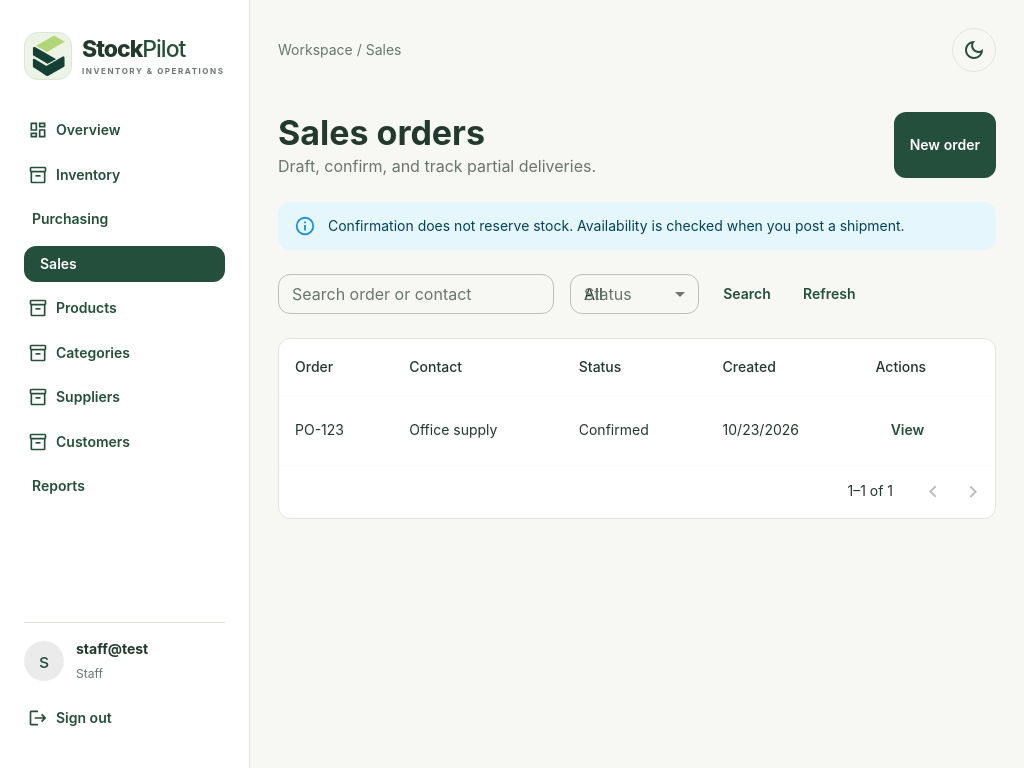
ships sales quantities with a shipment reference and explains availability
Check: the text "Confirmation does not reserve stock" is shown, box [328, 217, 905, 234]
Click the button "View": [908, 430] box [876, 412, 940, 448]
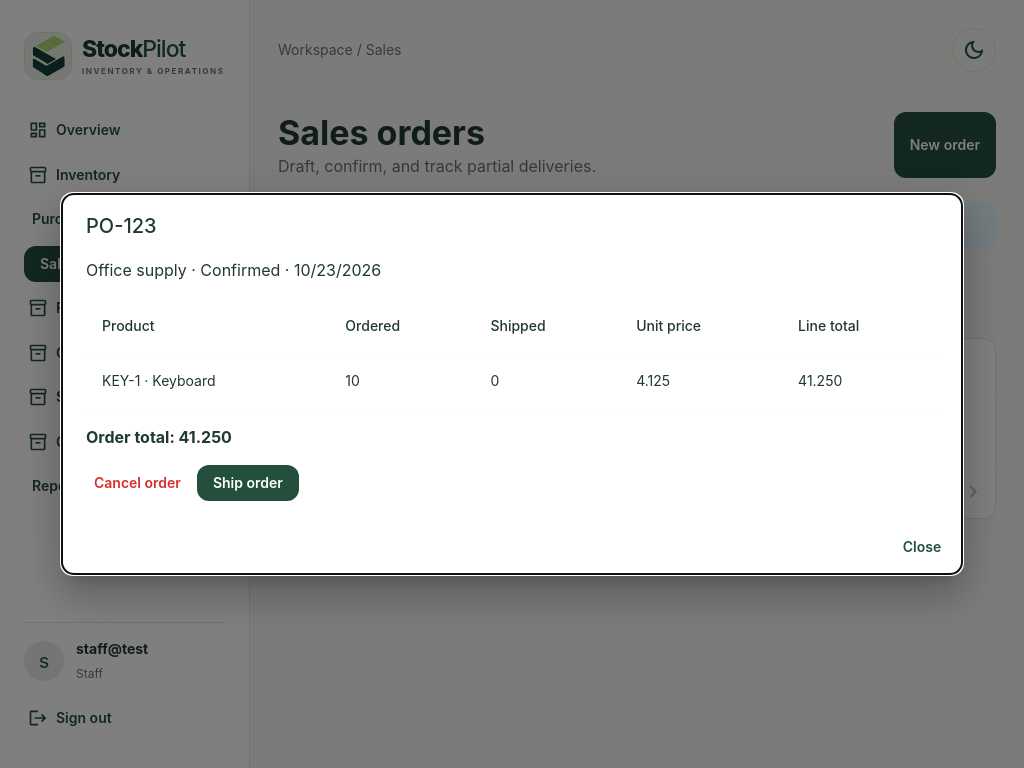
Click the button "Ship order": [248, 483] box [197, 464, 299, 501]
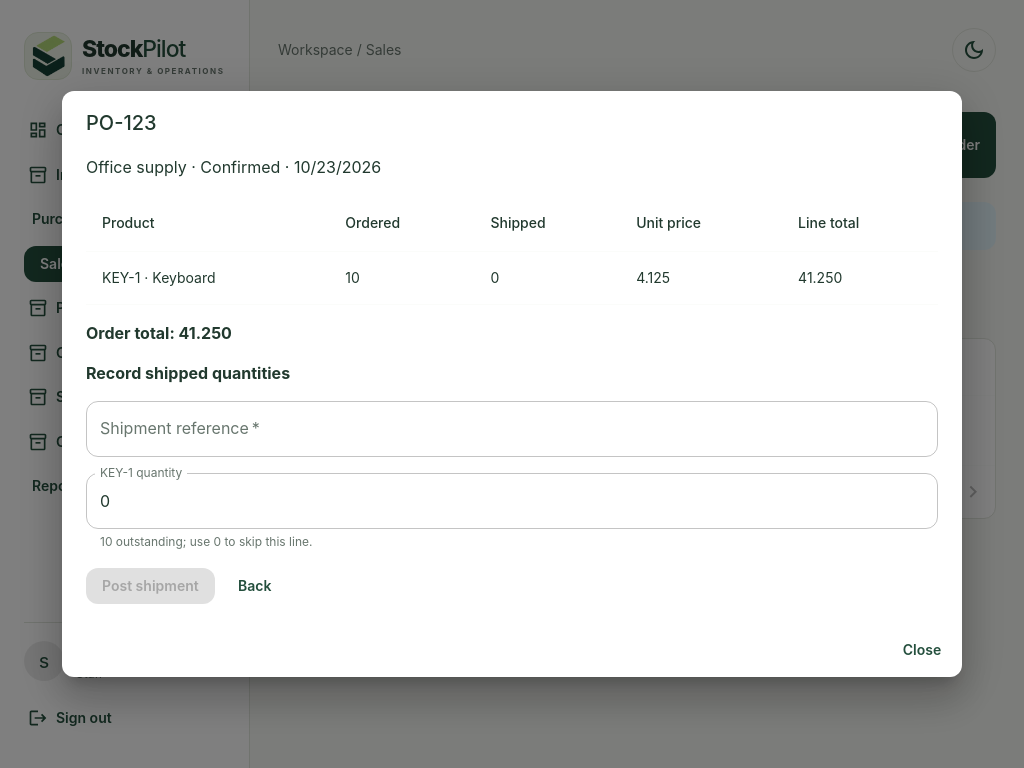
In the field labelled "Shipment reference *": [512, 429] box [86, 401, 938, 457], type "SHIP-42"
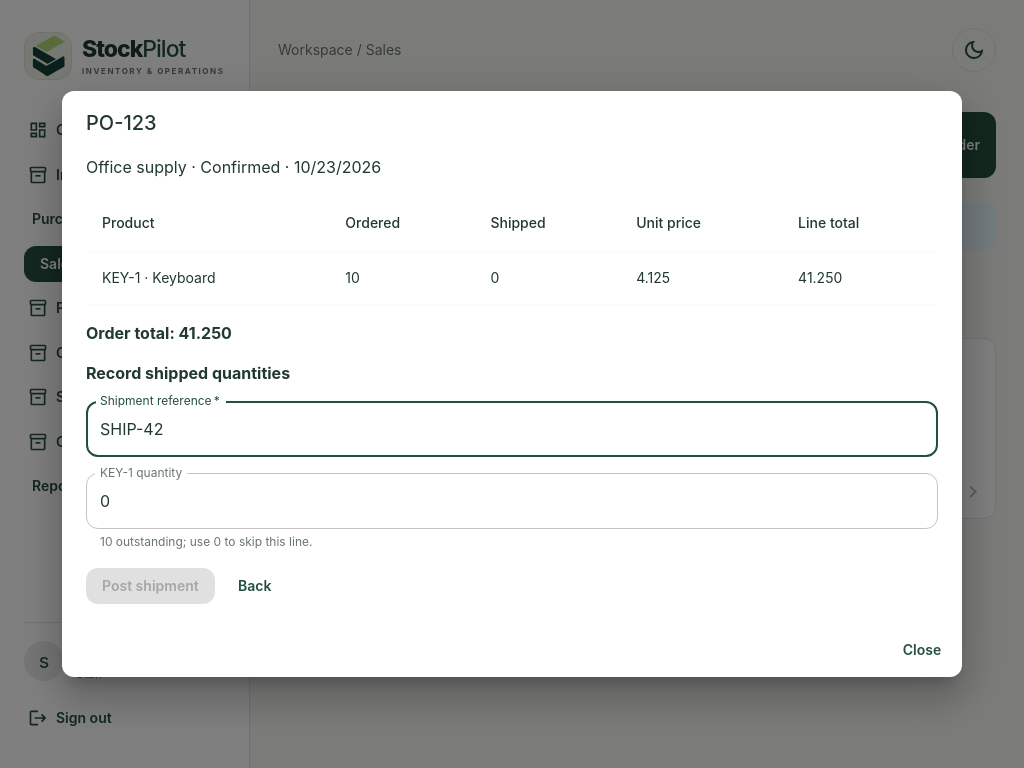
Replace the text in the number field labelled "KEY-1 quantity" with "2": [512, 501] box [86, 473, 938, 529]
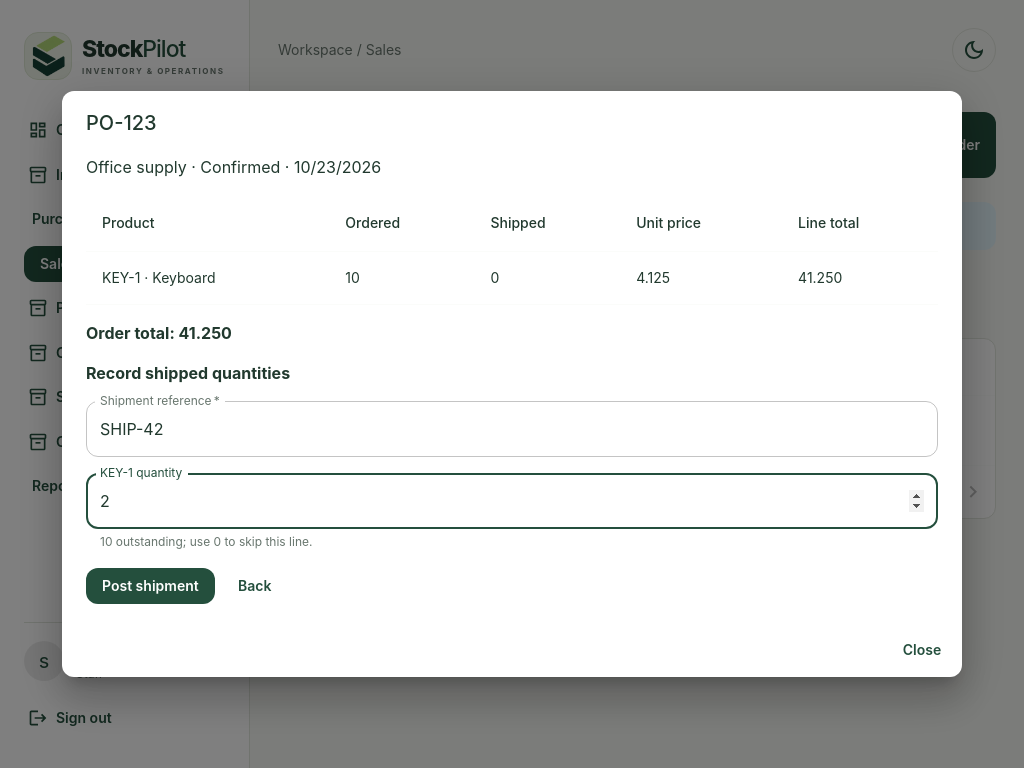
Click the button "Post shipment": [150, 586] box [86, 568, 215, 604]
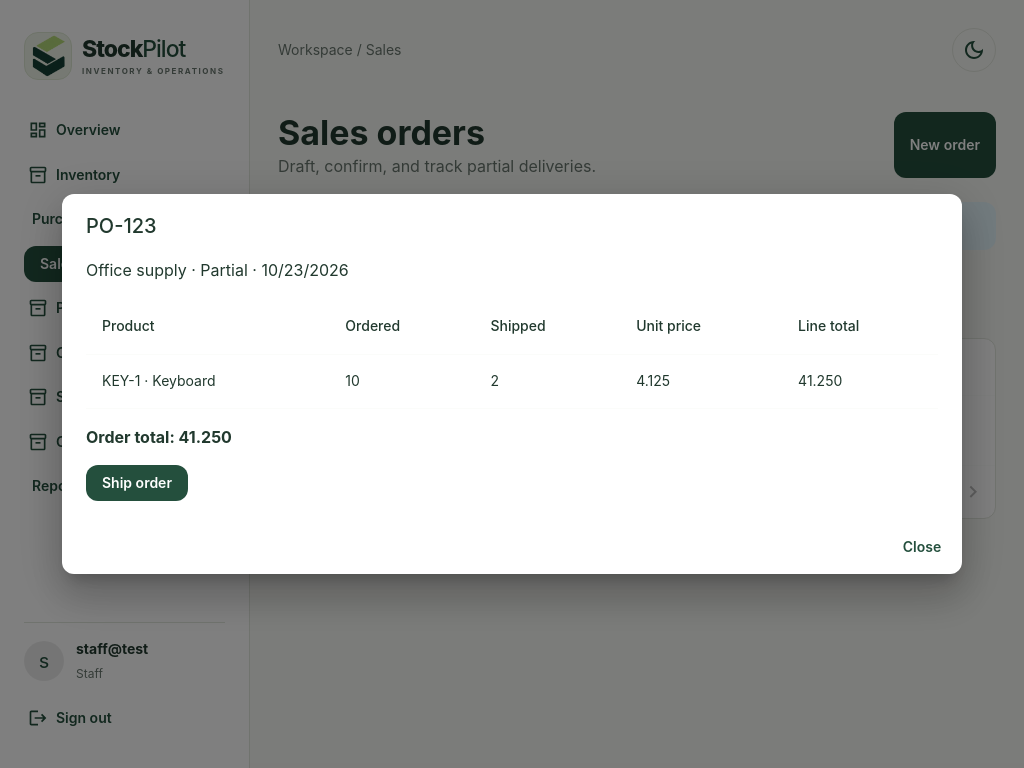
Check: the text "Office supply · Partial · 10/23/2026" is shown, box [86, 260, 349, 280]
